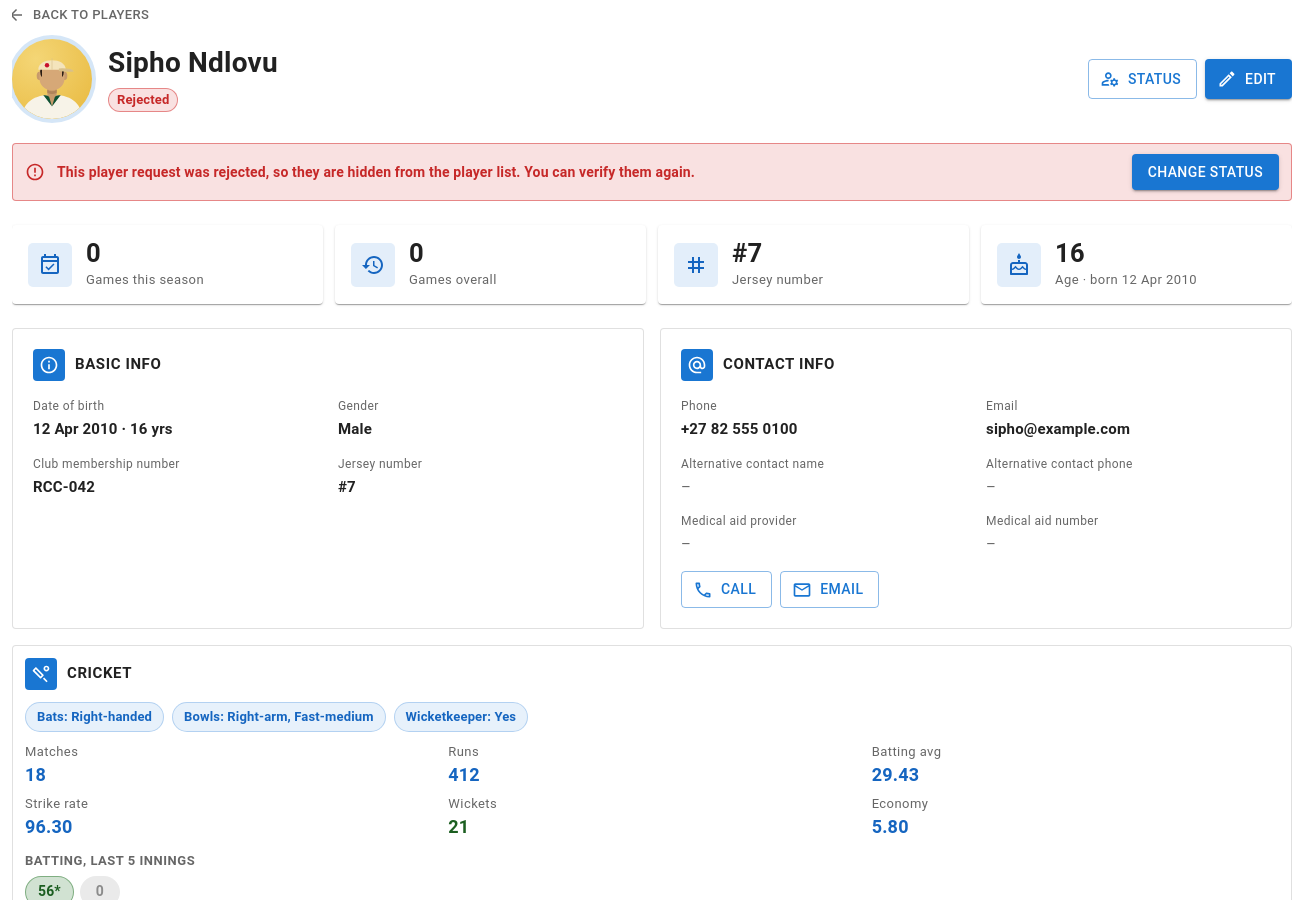
PlayerDetailPage › player status › shows the closed-tone banner for a rejected player, where the menu offers Verify
Expected: the heading "Sipho Ndlovu" is shown, left=108, top=46, right=278, bottom=80
Click the button "Status" at (1142, 79), box left=1088, top=59, right=1197, bottom=99
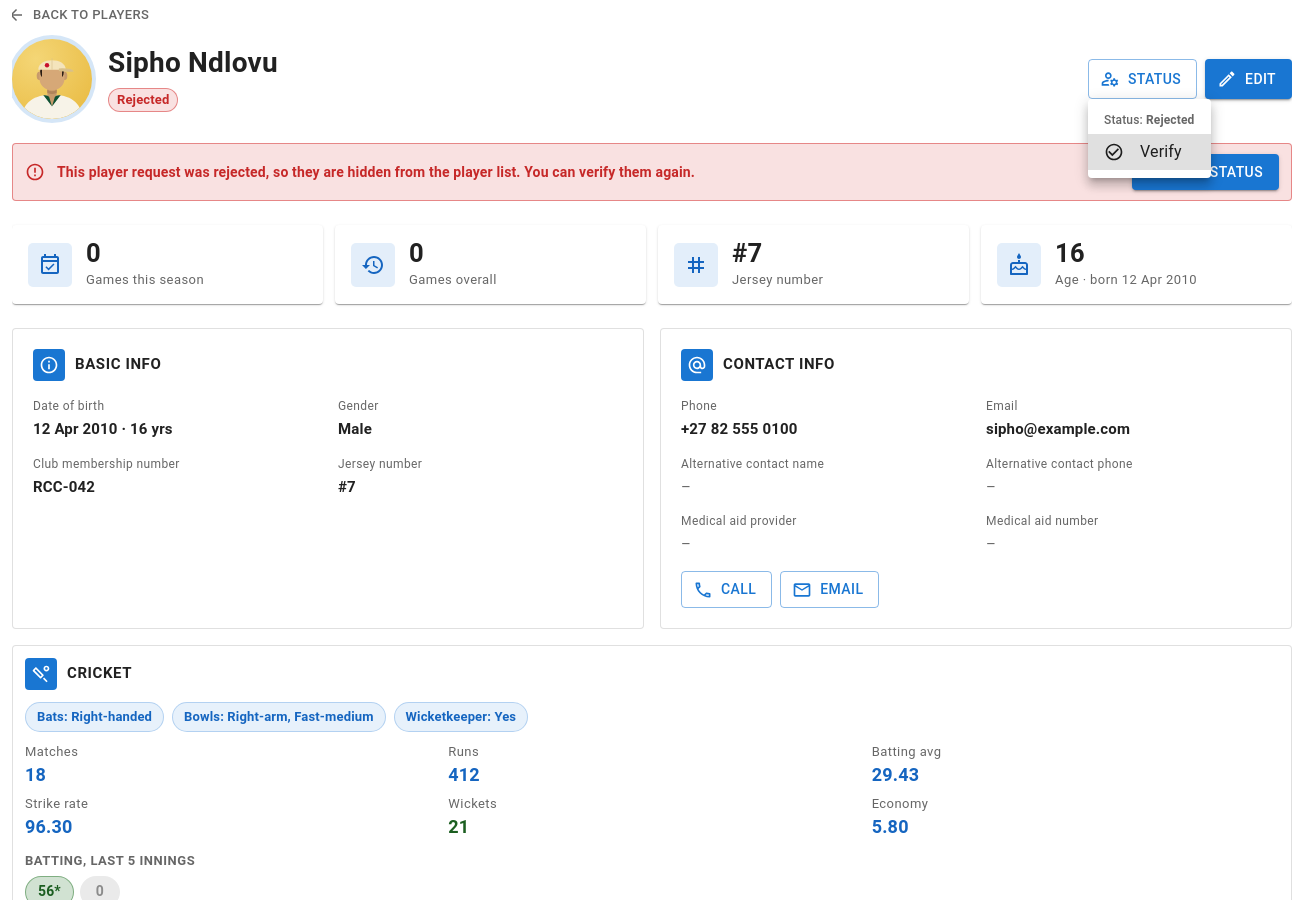
Now the menu items read "Verify", in this order, box left=1088, top=134, right=1210, bottom=170
